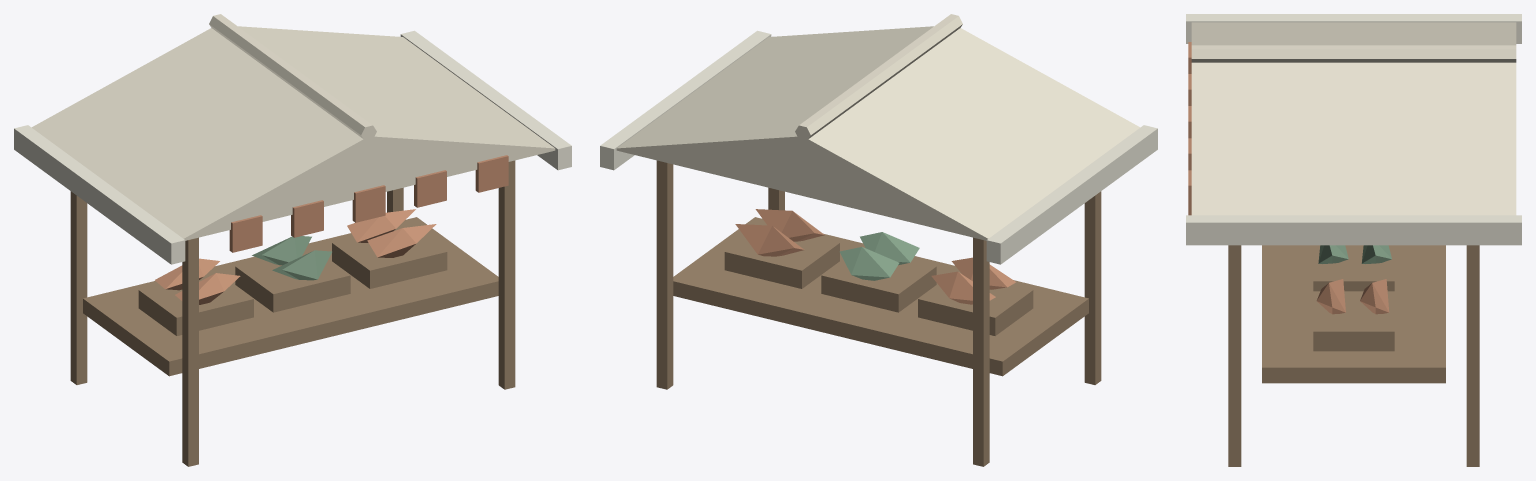
3 views of the same model, side by side, from view 1: azimuth 30°, elevation 25°; view 2: azimuth 150°, elevation 25°; view 3: azimuth 270°, elevation 25° (orthographic). The views are drawn at different scales.
Bounding box in the file's own units: 4.56 × 3.41 × 3.1.
